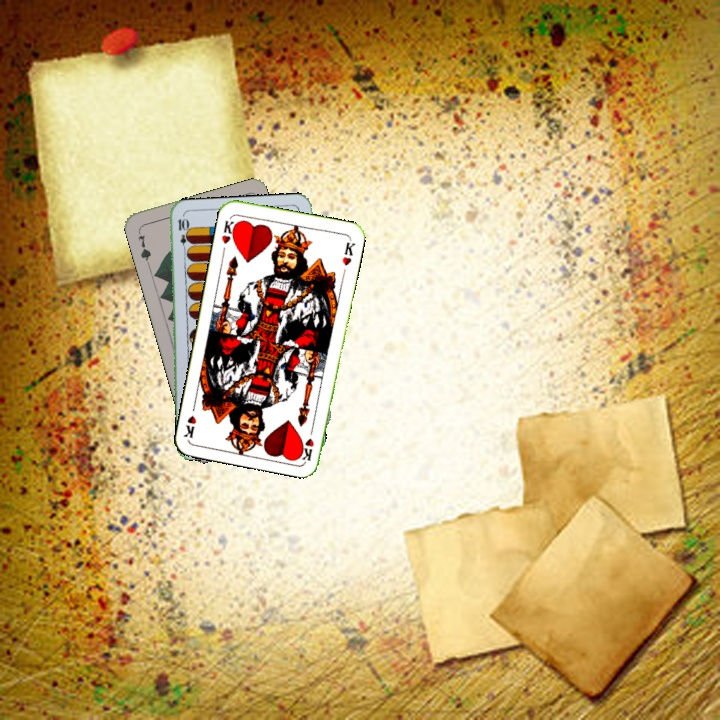E10: (174, 214, 190, 255)
G7: (134, 226, 154, 266)
HK: (297, 422, 316, 462), (217, 216, 240, 246)
